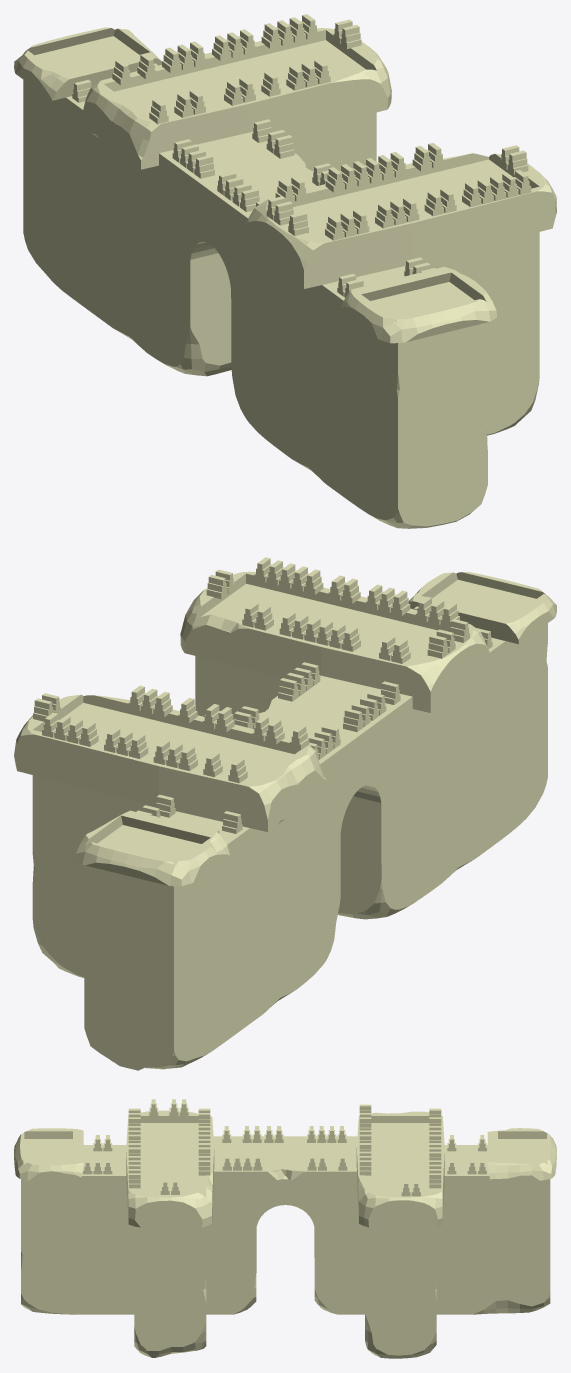
Rendered from PuertaIsthar.fbx.
3 views of the same model, one above another, from view 1: azimuth 30°, elevation 25°; view 2: azimuth 150°, elevation 25°; view 3: azimuth 270°, elevation 25° (orthographic). The views are drawn at different scales.
Parts seen in each view (by area): view 1: Cube.131; view 2: Cube.131; view 3: Cube.131.
Boxes of the visible parts, bbox=[...] form: Cube.131: bbox=[14, 14, 556, 528]; Cube.131: bbox=[14, 557, 556, 1070]; Cube.131: bbox=[14, 1099, 556, 1358].
Size of the model in its own units: 827 by 782 by 2138.
